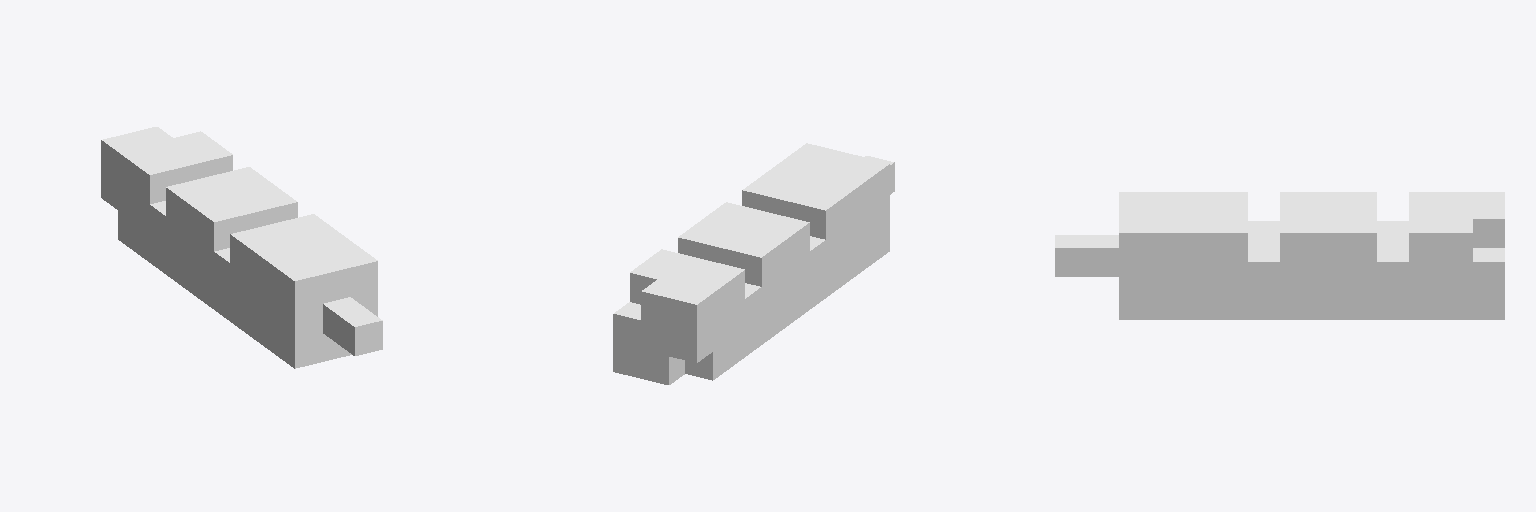
The model's file is Projectile_Tank_Presente.obj.
3 views of the same model, side by side, from view 1: azimuth 30°, elevation 25°; view 2: azimuth 150°, elevation 25°; view 3: azimuth 270°, elevation 25° (orthographic).
Parts seen in each view (by area): view 1: object 1; view 2: object 1; view 3: object 1.
Boxes of the visible parts, <box> form: object 1: <box>101,127,382,368</box>; object 1: <box>613,143,894,384</box>; object 1: <box>1055,192,1504,319</box>.
Bounding box in the file's own units: 0.3 × 0.3 × 1.4.